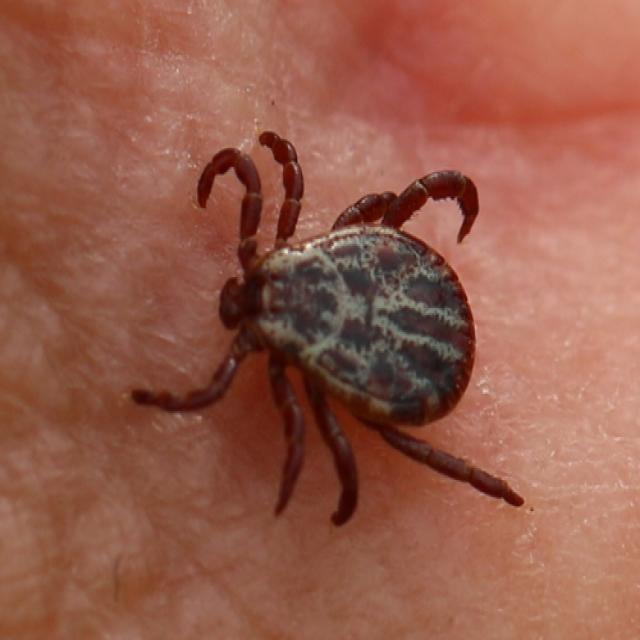Dermacentor Reticulatus-M: (131, 132, 525, 528)
